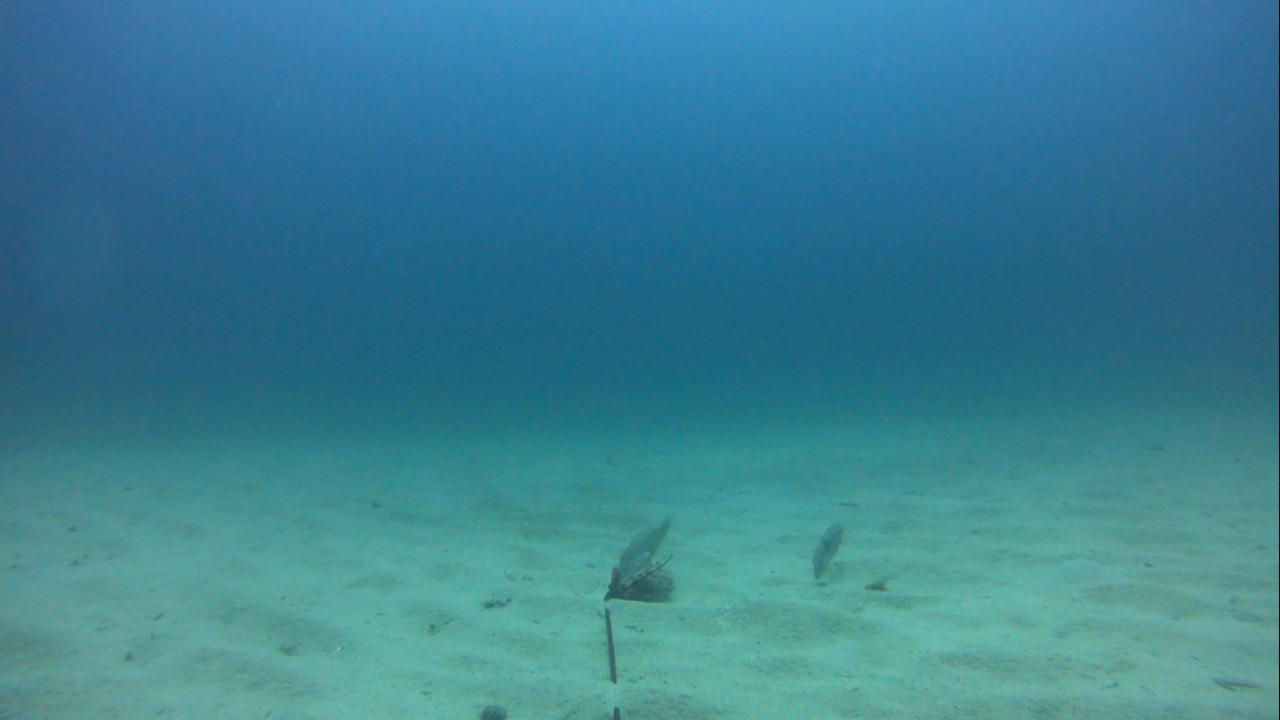raor: (616, 512, 678, 598), (798, 516, 849, 588)
